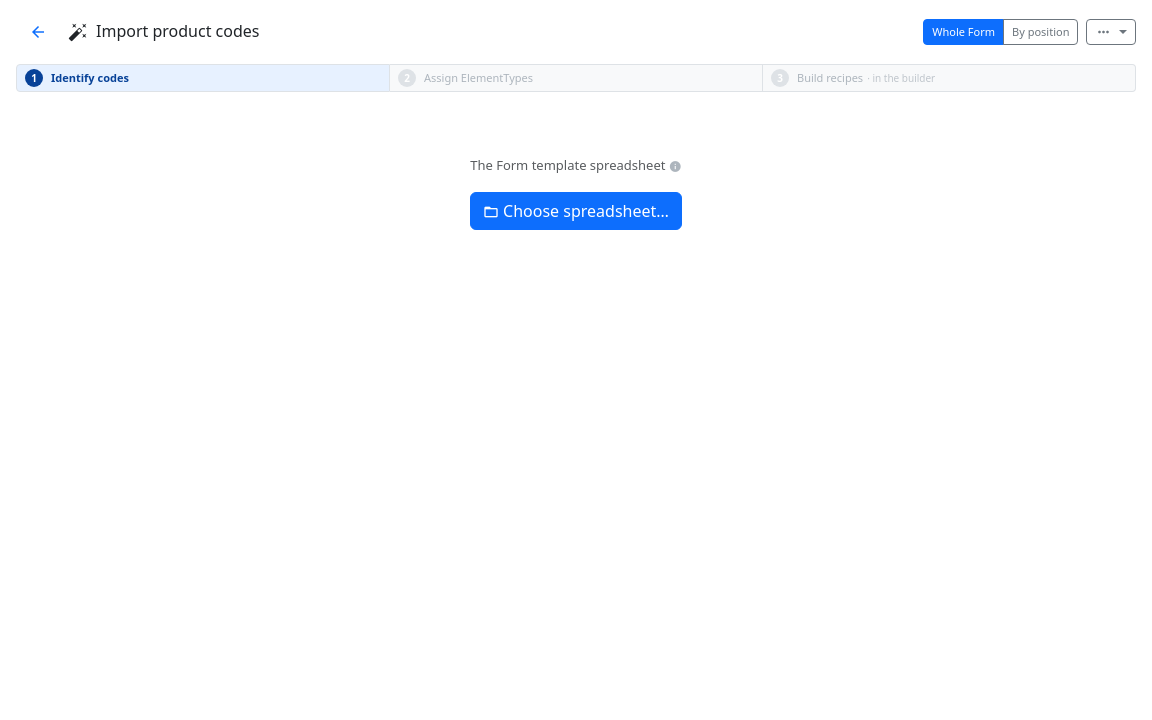
Test: the Form, as a table › ▸ opens the full painter under the row
Click the text "Choose spreadsheet…": [586, 210] box [503,200,669,222]
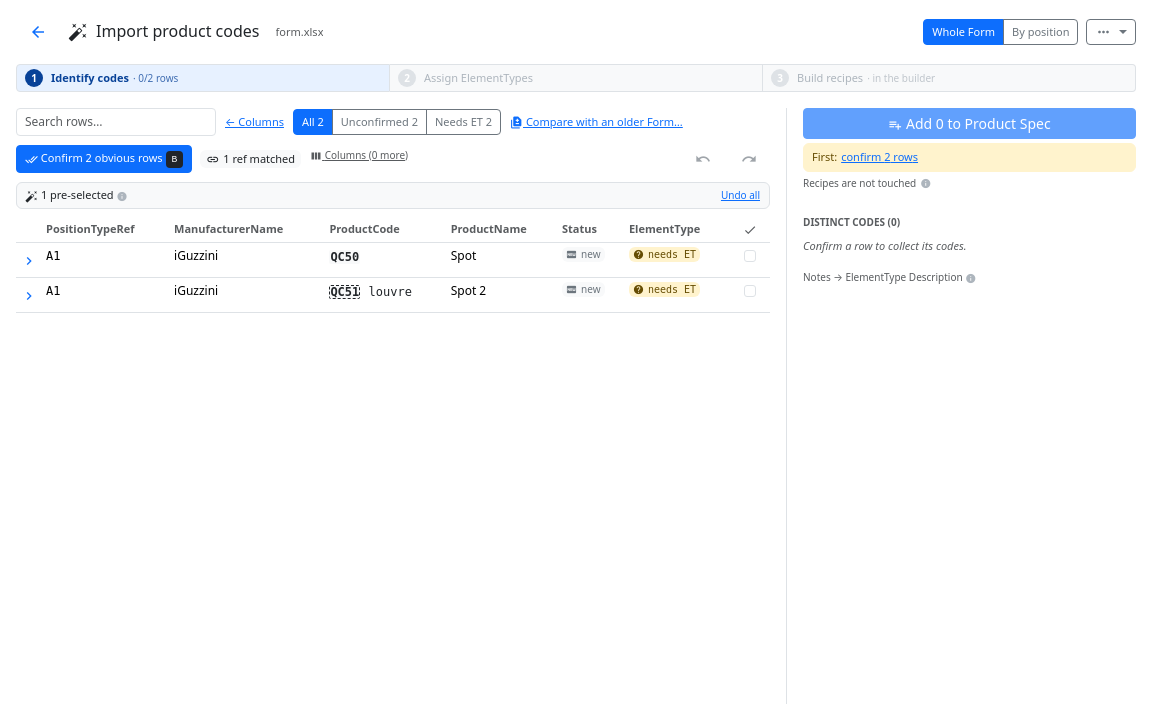
Click the button named "Open painter" in the row of "Spot 2": [29, 294] box [20,282,38,308]
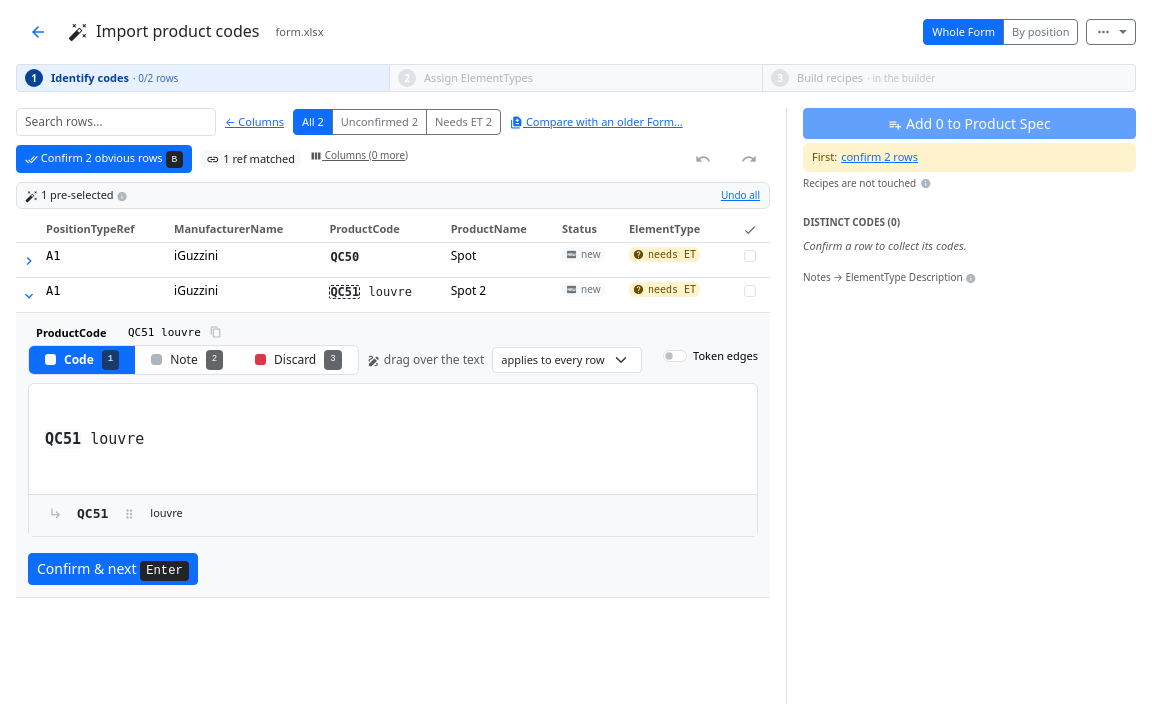
Expected: the button "Confirm & next Enter" is shown, [28,553,198,585]
